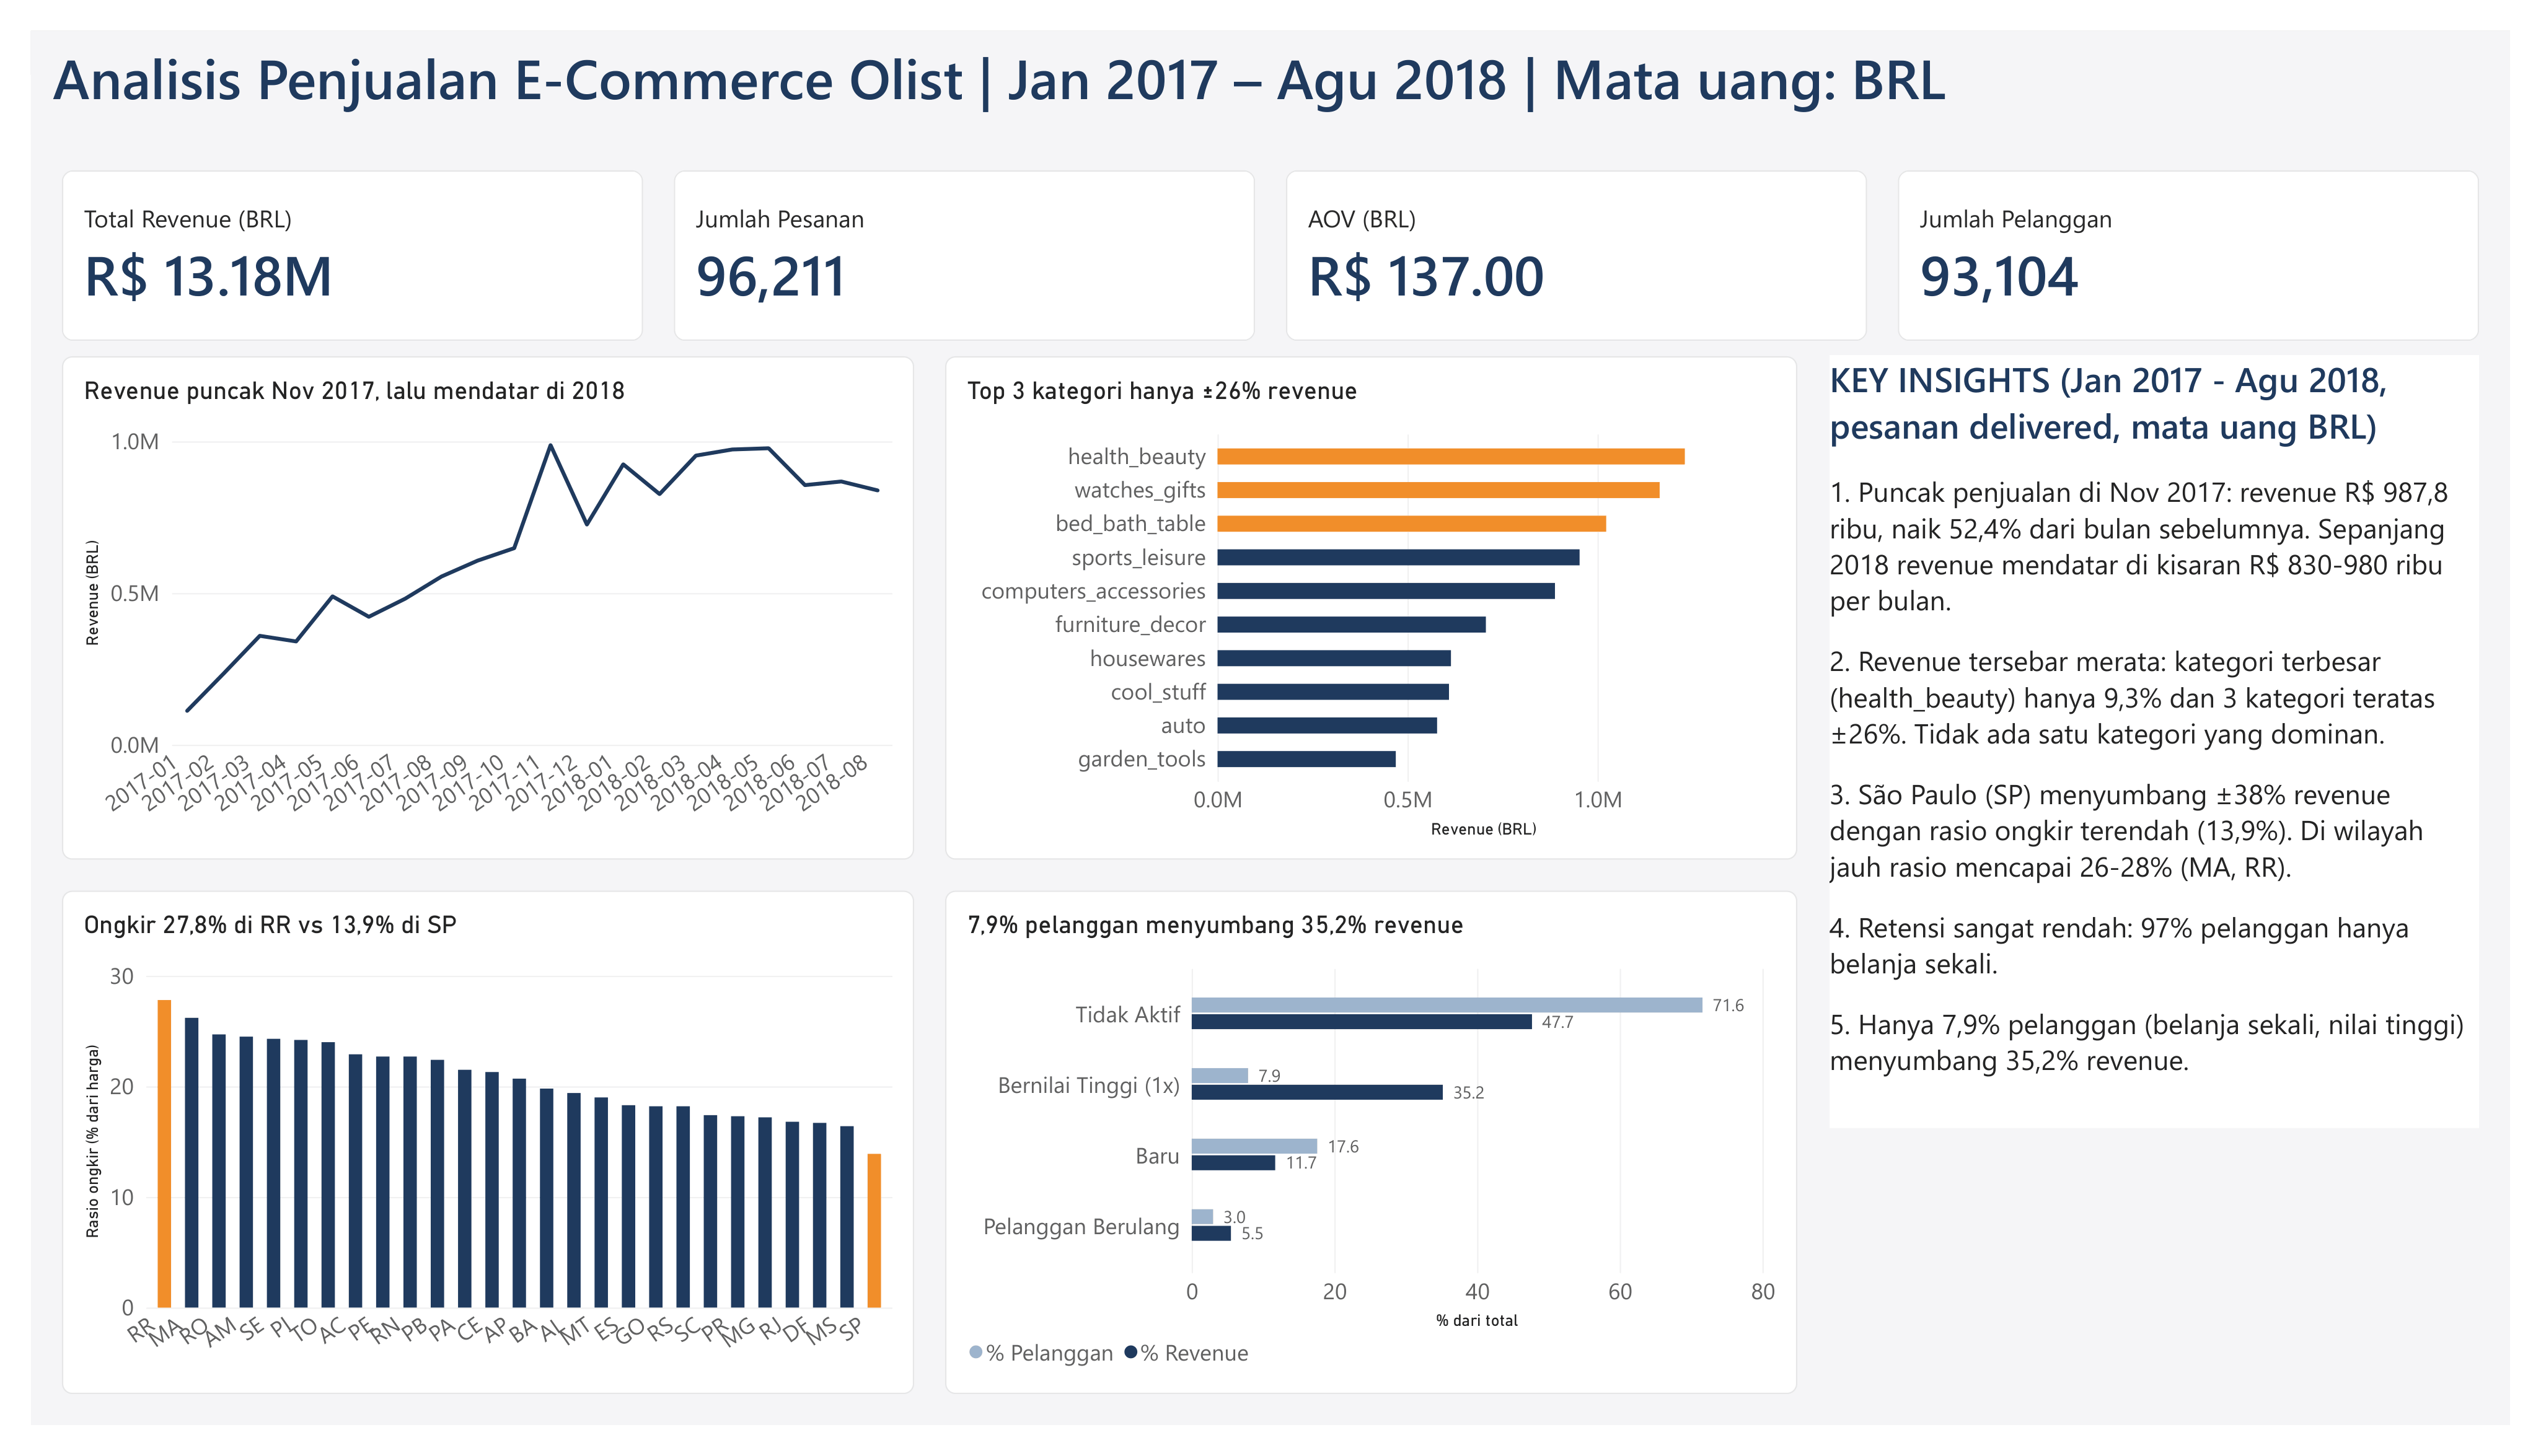

What the dashboard file says about the page in this screenshot:
{"tool":"powerbi","page":{"name":"Dashboard","canvas":[1920,1080],"ordinal":0},"visuals":[{"type":"cardVisual","fields":{"Data":["tren_bulanan.Total Revenue"]},"box":[24,108,450,132],"z":0},{"type":"cardVisual","fields":{"Data":["tren_bulanan.Jumlah Pesanan"]},"box":[498,108,450,132],"z":1000},{"type":"cardVisual","fields":{"Data":["tren_bulanan.Jumlah Pelanggan"]},"box":[1446,108,450,132],"z":2000},{"type":"cardVisual","fields":{"Data":["tren_bulanan.AOV Total"]},"box":[972,108,450,132],"z":3000},{"type":"clusteredBarChart","title":"Top 3 kategori hanya ±26% revenue","fields":{"Category":["top_kategori.kategori"],"Y":["Sum(top_kategori.revenue)"]},"box":[708,252,660,390],"z":4000},{"type":"clusteredColumnChart","title":"Ongkir 27,8% di RR vs 13,9% di SP","fields":{"Category":["performa_state.state"],"Y":["Avg(performa_state.rasio_ongkir_pct)"]},"box":[24,666,660,390],"z":5000},{"type":"clusteredBarChart","title":"7,9% pelanggan menyumbang 35,2% revenue","fields":{"Category":["segmen_pelanggan.segmen"],"Y":["Sum(segmen_pelanggan.pct_pelanggan)","Sum(segmen_pelanggan.pct_revenue)"]},"box":[708,666,660,390],"z":6000},{"type":"lineChart","title":"Revenue puncak Nov 2017, lalu mendatar di 2018","fields":{"Category":["tren_bulanan.bulan"],"Y":["Sum(tren_bulanan.revenue)"]},"box":[24,252,660,390],"z":7000},{"type":"textbox","box":[1392.9,251.4,502.9,598.6],"z":8000},{"type":"textbox","box":[17.1,7.3,1520,73.2],"z":9001}]}

Visuals, with their boxes on the page's 1920x1080 design canvas (x1, y1, x2, y2). These are canvas units, not pixel positions in the 2541x1456 screenshot, which may show the page scaled, cropped or inside an application window:
cardVisual - tren_bulanan.Total Revenue: pyautogui.locateOnScreen(24, 108, 474, 240)
cardVisual - tren_bulanan.Jumlah Pesanan: pyautogui.locateOnScreen(498, 108, 948, 240)
cardVisual - tren_bulanan.Jumlah Pelanggan: pyautogui.locateOnScreen(1446, 108, 1896, 240)
cardVisual - tren_bulanan.AOV Total: pyautogui.locateOnScreen(972, 108, 1422, 240)
"Top 3 kategori hanya ±26% revenue" clusteredBarChart: pyautogui.locateOnScreen(708, 252, 1368, 642)
"Ongkir 27,8% di RR vs 13,9% di SP" clusteredColumnChart: pyautogui.locateOnScreen(24, 666, 684, 1056)
"7,9% pelanggan menyumbang 35,2% revenue" clusteredBarChart: pyautogui.locateOnScreen(708, 666, 1368, 1056)
"Revenue puncak Nov 2017, lalu mendatar di 2018" lineChart: pyautogui.locateOnScreen(24, 252, 684, 642)
textbox: pyautogui.locateOnScreen(1393, 251, 1896, 850)
textbox: pyautogui.locateOnScreen(17, 7, 1537, 80)
